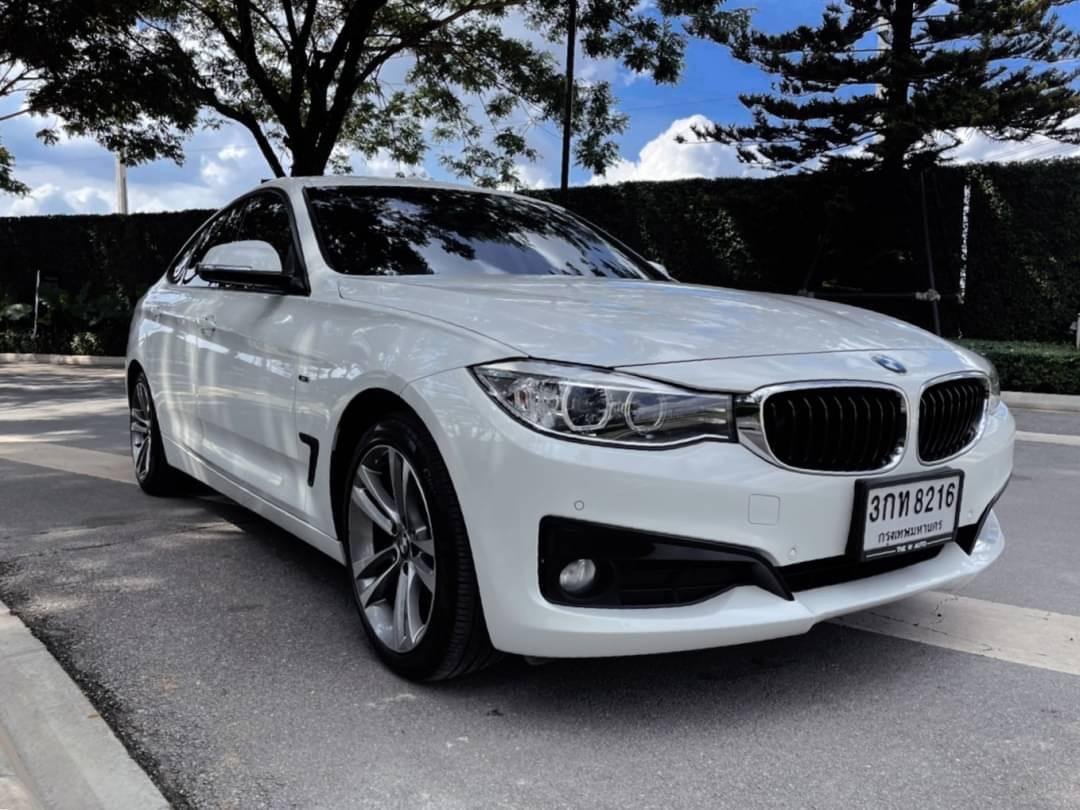license-plate: (844, 461, 965, 568)
